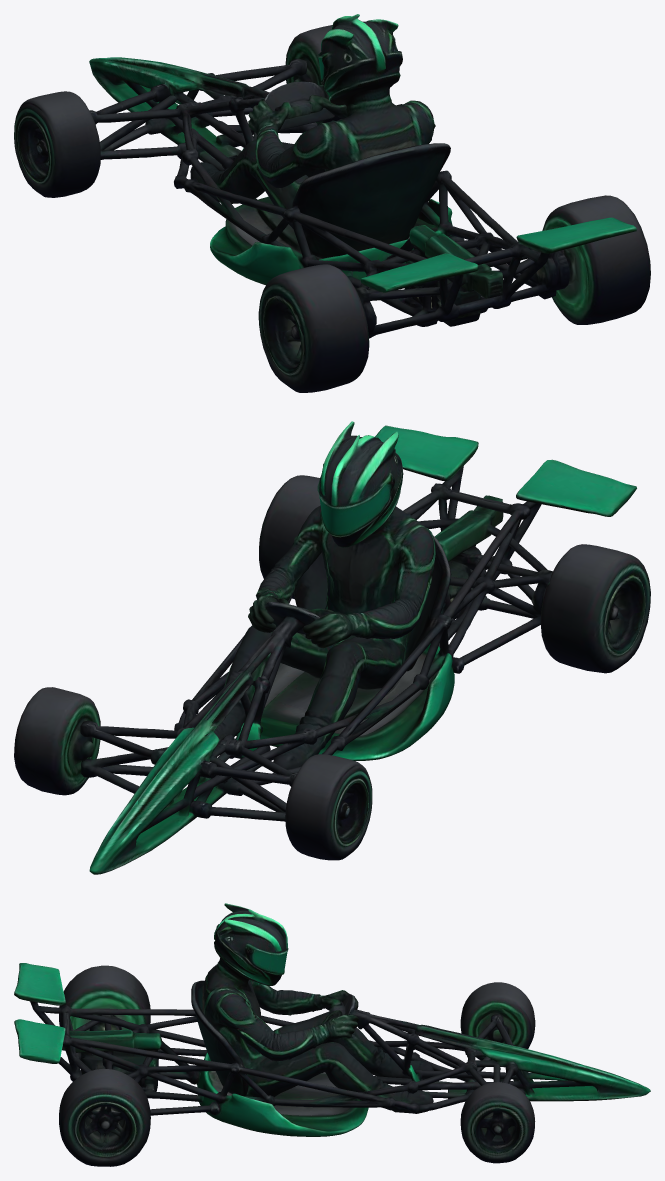
File: kinetic-dark.glb
3 renders of one model, top to bottom at view 1: azimuth 30°, elevation 25°; view 2: azimuth 150°, elevation 25°; view 3: azimuth 270°, elevation 25°, orthographic. The views are drawn at different scales.
Visible parts, largest first — view 1: chassis, wheel-rl, wheel-rr, wheel-fl, wheel-fr; view 2: chassis, wheel-rl, wheel-fl, wheel-fr, wheel-rr; view 3: chassis, wheel-rr, wheel-fr, wheel-rl, wheel-fl.
Boxes of the visible parts, bbox=[...] form: chassis: bbox=[89, 14, 636, 338]; wheel-rl: bbox=[258, 264, 369, 392]; wheel-rr: bbox=[542, 195, 650, 324]; wheel-fl: bbox=[14, 91, 100, 197]; wheel-fr: bbox=[285, 25, 341, 125]; chassis: bbox=[77, 421, 636, 874]; wheel-rl: bbox=[540, 544, 650, 673]; wheel-fl: bbox=[285, 754, 372, 860]; wheel-fr: bbox=[14, 687, 100, 795]; wheel-rr: bbox=[259, 475, 320, 599]; chassis: bbox=[14, 903, 650, 1136]; wheel-rr: bbox=[59, 1068, 150, 1166]; wheel-fr: bbox=[460, 1082, 535, 1163]; wheel-rl: bbox=[59, 965, 150, 1030]; wheel-fl: bbox=[460, 982, 535, 1060].
Size of the model in its own units: 2.11 by 1.56 by 4.5.
Materials: 1 (1 with a texture image).
